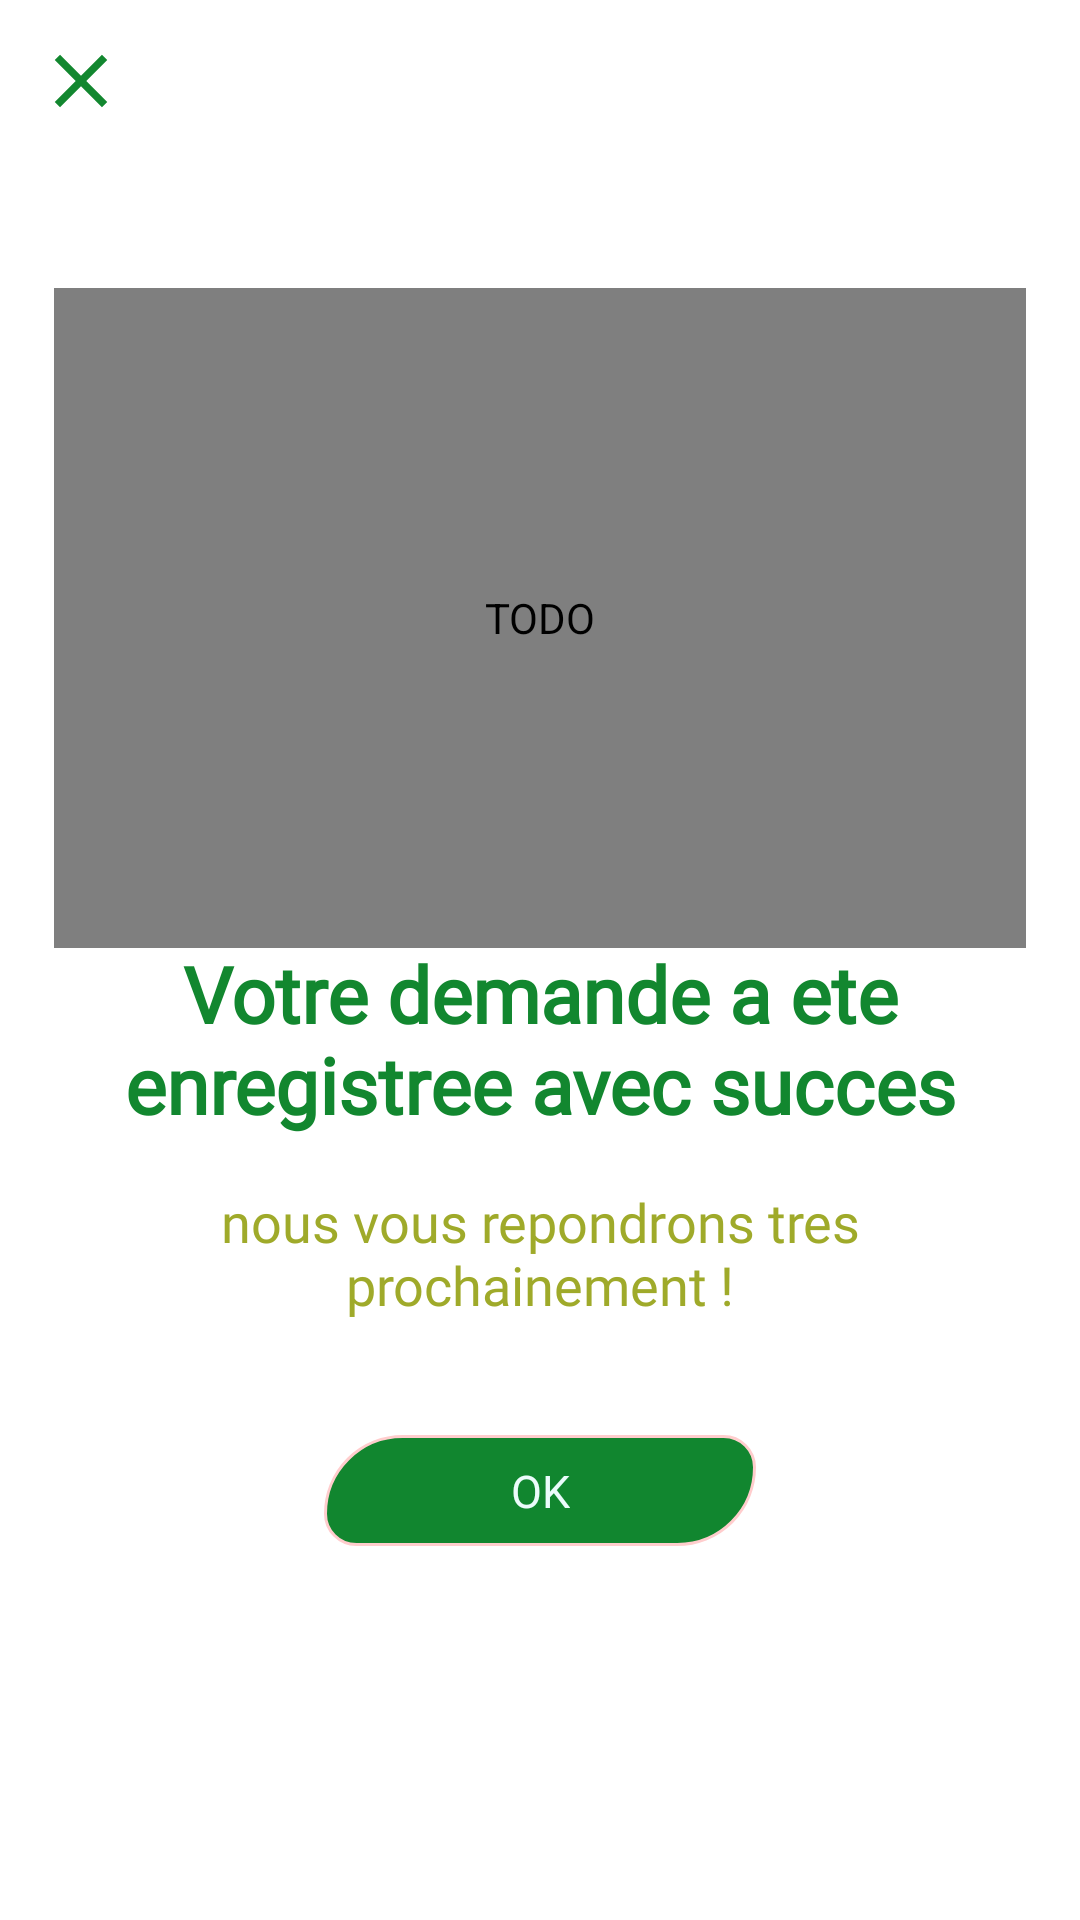

Locate icon controls on the screen. Image size 1080×1920, boxes as (x1, y1, x2, y2).
close: (55, 55, 107, 107)
